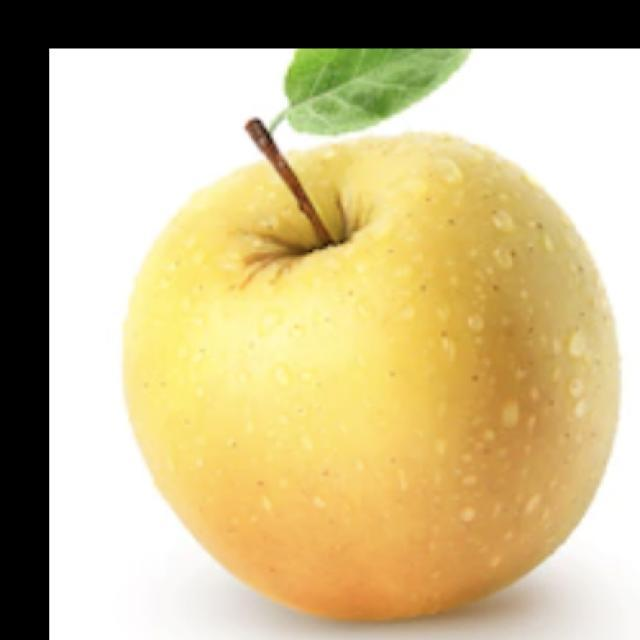Fresh Apple: (122, 128, 618, 620)
